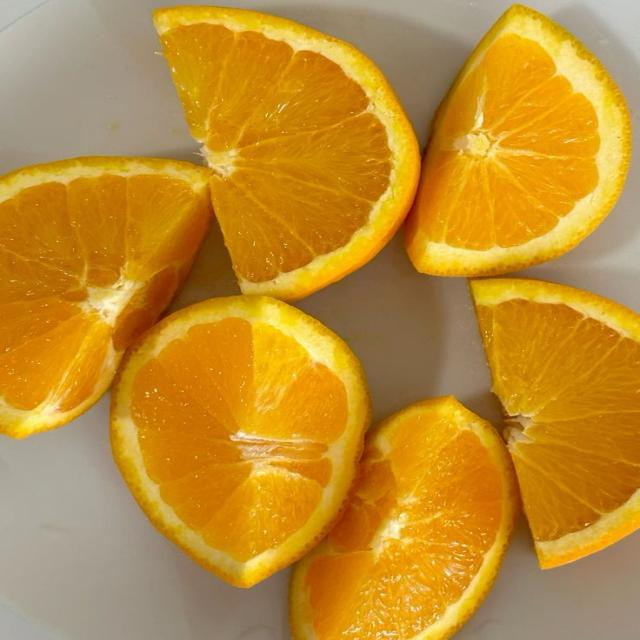orange: (154, 7, 419, 300), (112, 297, 370, 586), (406, 5, 630, 275), (0, 157, 211, 437), (290, 397, 519, 639), (471, 279, 639, 567)
